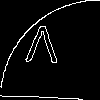V: (25, 25, 59, 73)
